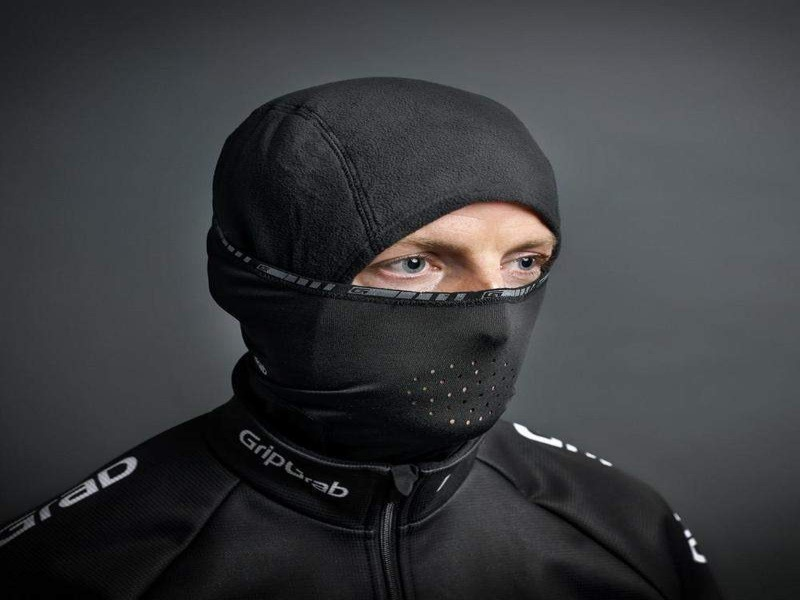balaclava: (206, 76, 561, 450)
person: (4, 76, 723, 596)
